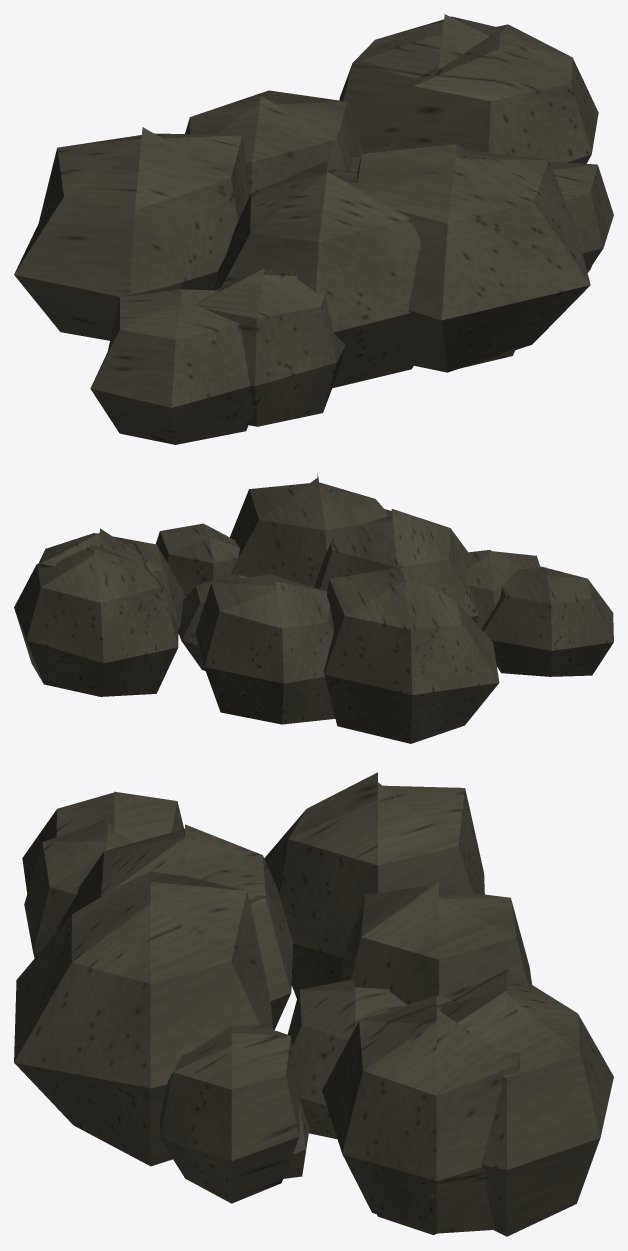
The model's file is PROP-852CB1BCD0F4_lod2.glb.
The picture shows the model from 3 angles, top to bottom: view 1: azimuth 30°, elevation 25°; view 2: azimuth 150°, elevation 25°; view 3: azimuth 270°, elevation 25°; orthographic projection. The views are drawn at different scales.
Parts seen in each view (by area): view 1: rock.007; view 2: rock.007; view 3: rock.007.
Boxes of the visible parts, <box> form: rock.007: <box>14,14,613,444</box>; rock.007: <box>14,473,613,743</box>; rock.007: <box>14,772,613,1236</box>.
Size of the model in its own units: 1.63 by 0.4757 by 1.14.
1 material, 1 textured.
